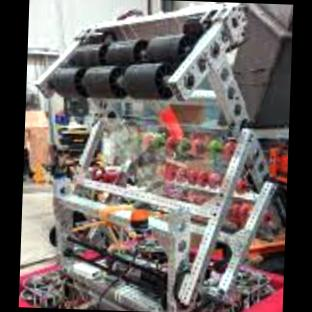Robot: (21, 2, 293, 312)
